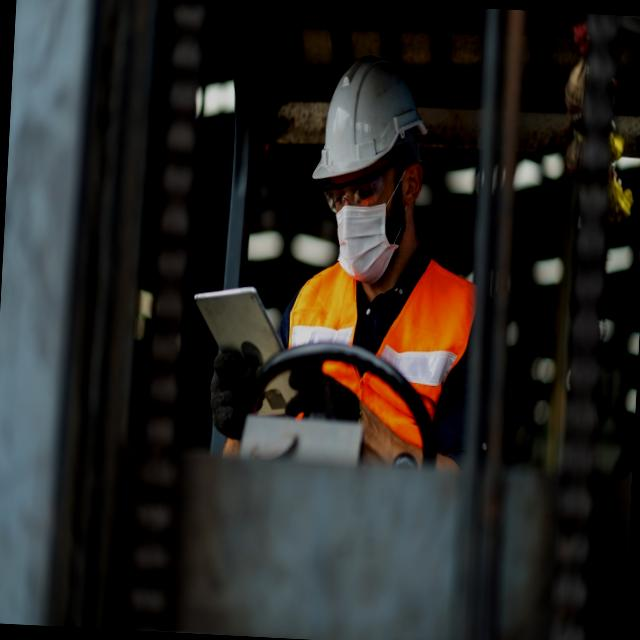goggles: (314, 162, 398, 215)
helmet: (306, 50, 432, 186)
vest: (285, 255, 482, 420)
